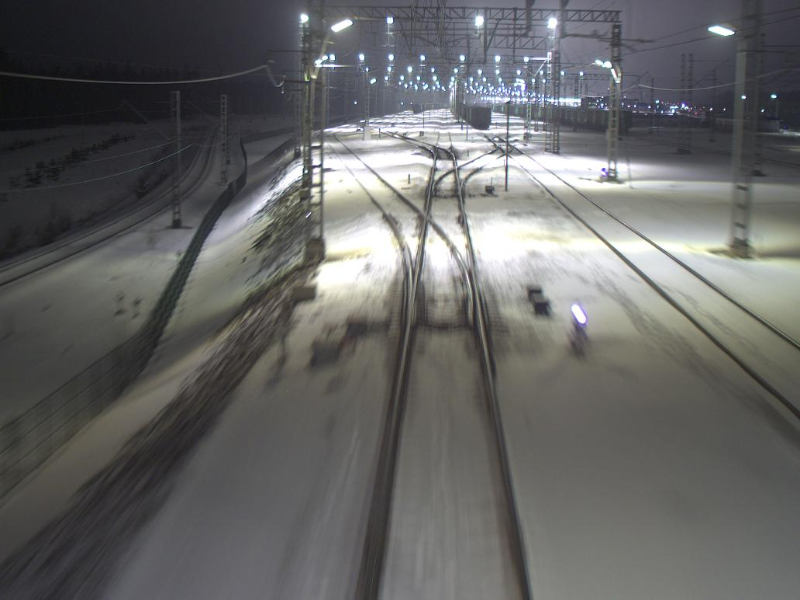railway_arrows: (402, 211, 493, 342), (425, 162, 466, 196)
